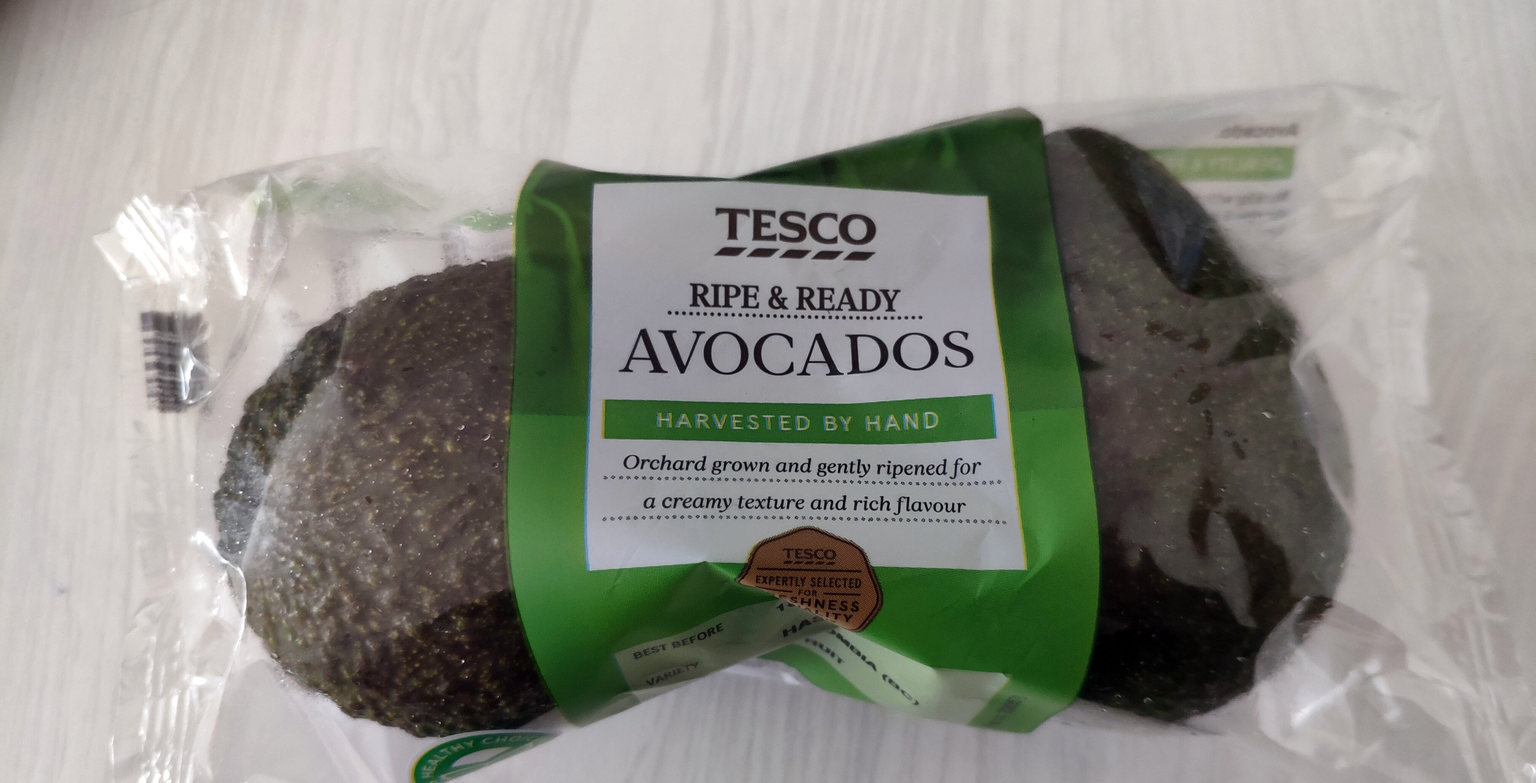Ripe and Ready Avocados: (77, 39, 1459, 744)
